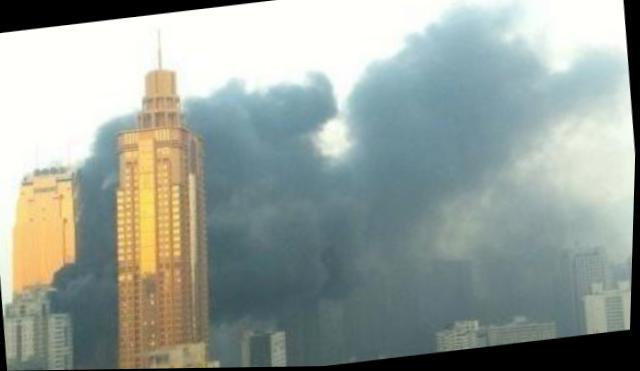smoke: (349, 3, 585, 202), (223, 49, 375, 307), (367, 178, 547, 306), (188, 76, 260, 310), (66, 117, 132, 335)
